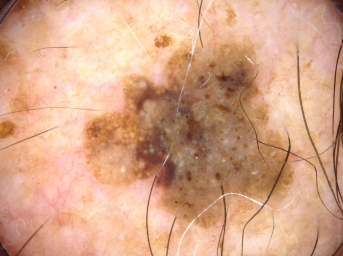seborrheic keratosis: (78, 31, 305, 231)
